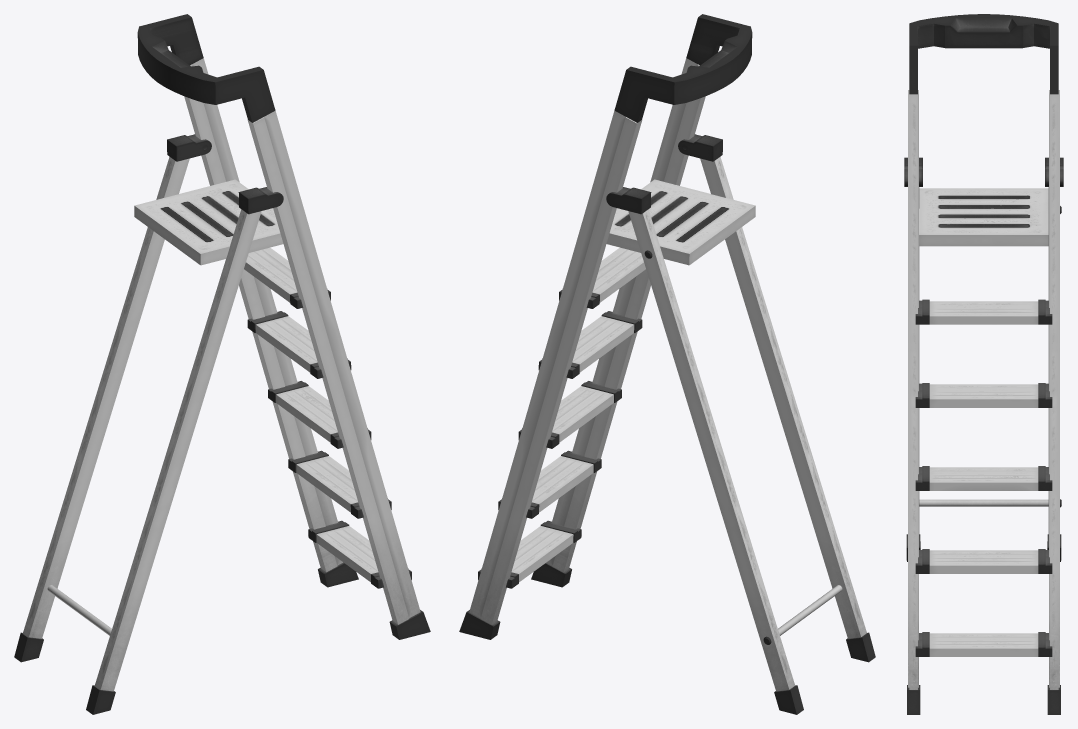
File: SM_StepLadder.fbx
The picture shows the model from 3 angles, left to right: view 1: azimuth 30°, elevation 25°; view 2: azimuth 150°, elevation 25°; view 3: azimuth 270°, elevation 25°; orthographic projection. The views are drawn at different scales.
Parts seen in each view (by area): view 1: SM_StepLadder_LOD0; view 2: SM_StepLadder_LOD0; view 3: SM_StepLadder_LOD0.
Boxes of the visible parts, left/top/right/bottom form: SM_StepLadder_LOD0: left=14, top=14, right=430, bottom=714; SM_StepLadder_LOD0: left=459, top=14, right=875, bottom=714; SM_StepLadder_LOD0: left=904, top=14, right=1063, bottom=714.
Size of the model in its own units: 114 by 47.38 by 194.
